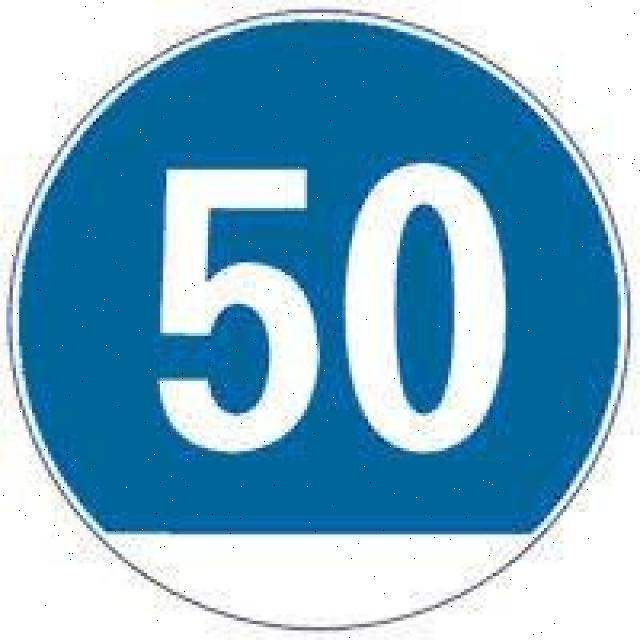speed limit 50: (15, 9, 632, 633)
